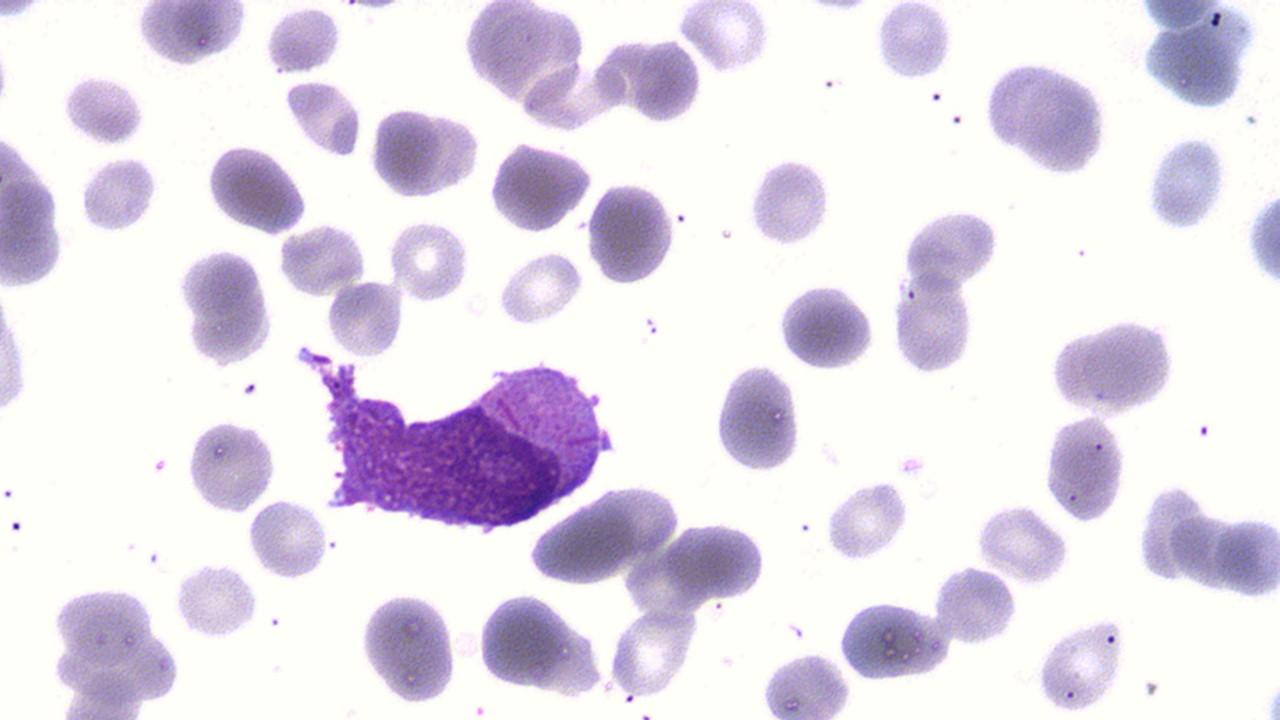Platelets: (894, 452, 930, 478), (1263, 684, 1280, 720), (242, 380, 258, 397)
RBC: (41, 578, 186, 716), (979, 53, 1115, 178), (451, 0, 602, 108), (1041, 310, 1183, 423), (1134, 1, 1266, 112), (175, 241, 281, 370), (354, 587, 462, 708), (0, 122, 74, 296), (484, 137, 598, 236), (709, 358, 803, 477), (1030, 613, 1134, 716), (473, 589, 574, 694), (202, 139, 311, 236), (834, 594, 954, 682), (586, 178, 680, 289), (1040, 412, 1132, 524), (182, 415, 282, 516), (774, 279, 878, 376), (1139, 131, 1233, 236), (890, 269, 980, 378), (900, 204, 1008, 294), (604, 606, 699, 700), (744, 154, 834, 252), (130, 0, 253, 70), (366, 99, 445, 203), (1134, 480, 1212, 585), (822, 476, 914, 565), (974, 504, 1073, 584), (932, 562, 1020, 650), (494, 246, 586, 330), (519, 58, 620, 134), (172, 558, 261, 643), (245, 495, 331, 582), (386, 216, 472, 303), (78, 150, 161, 237), (278, 220, 369, 299), (282, 77, 368, 160), (678, 0, 771, 76), (57, 71, 150, 147), (871, 2, 957, 84), (756, 649, 856, 718), (324, 276, 406, 359), (630, 35, 701, 124), (261, 4, 345, 78), (1211, 510, 1277, 604), (1170, 508, 1236, 594), (1, 270, 31, 450), (592, 34, 656, 113), (1244, 186, 1280, 291), (0, 1, 42, 22)
WBC: (427, 357, 604, 532)
